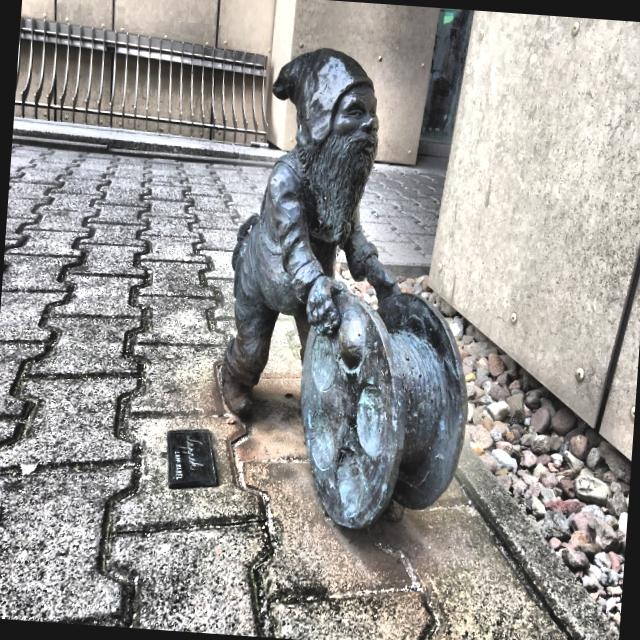Lappek: (216, 49, 465, 531)
